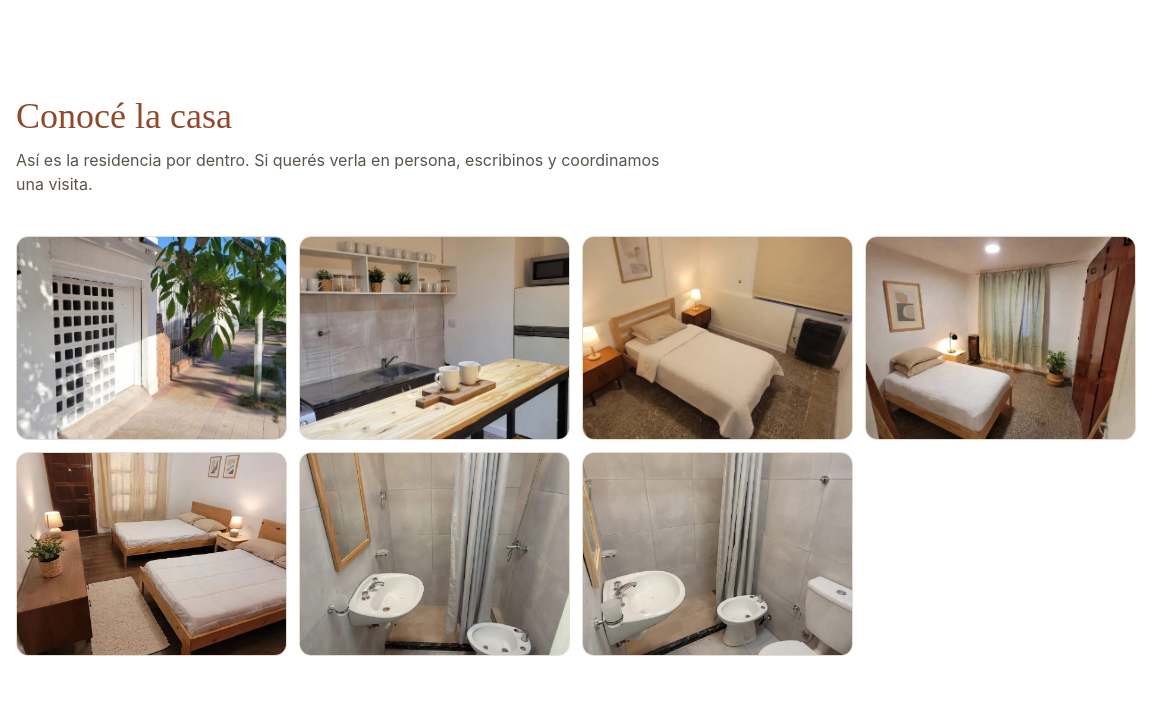
Scenario: Galeria › al clickear una miniatura abre el lightbox
Click the button named "ampliar": (152, 338) [16,236,287,440]
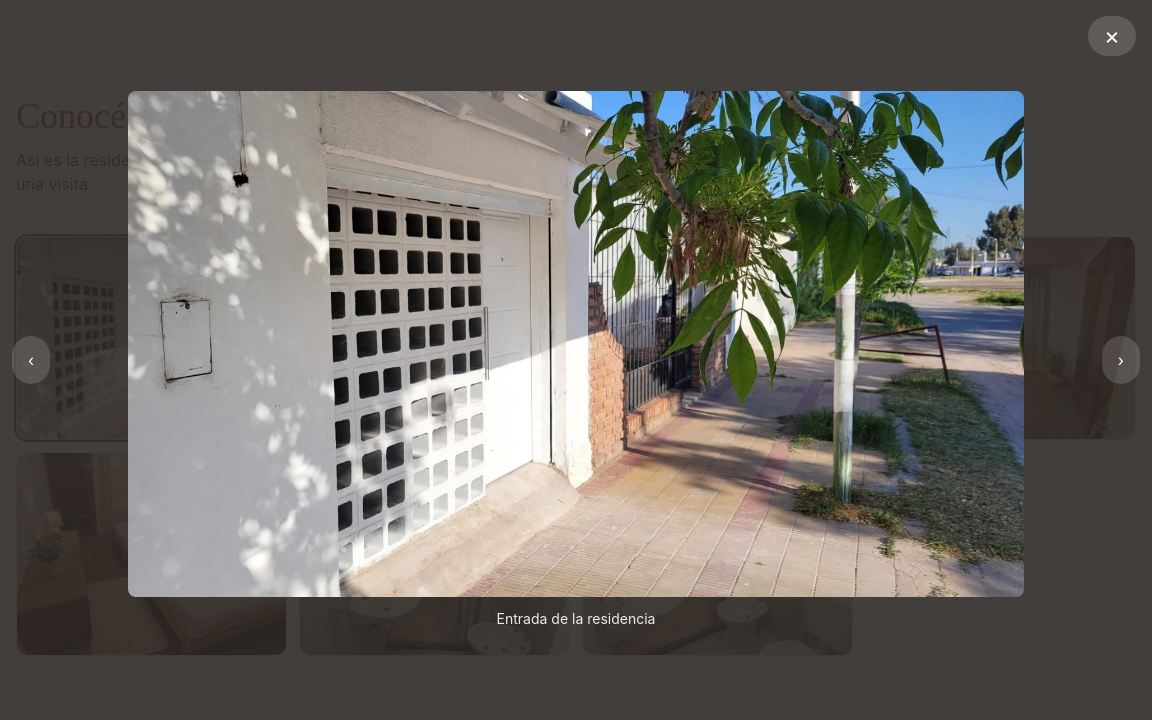
Check: the dialog is shown
